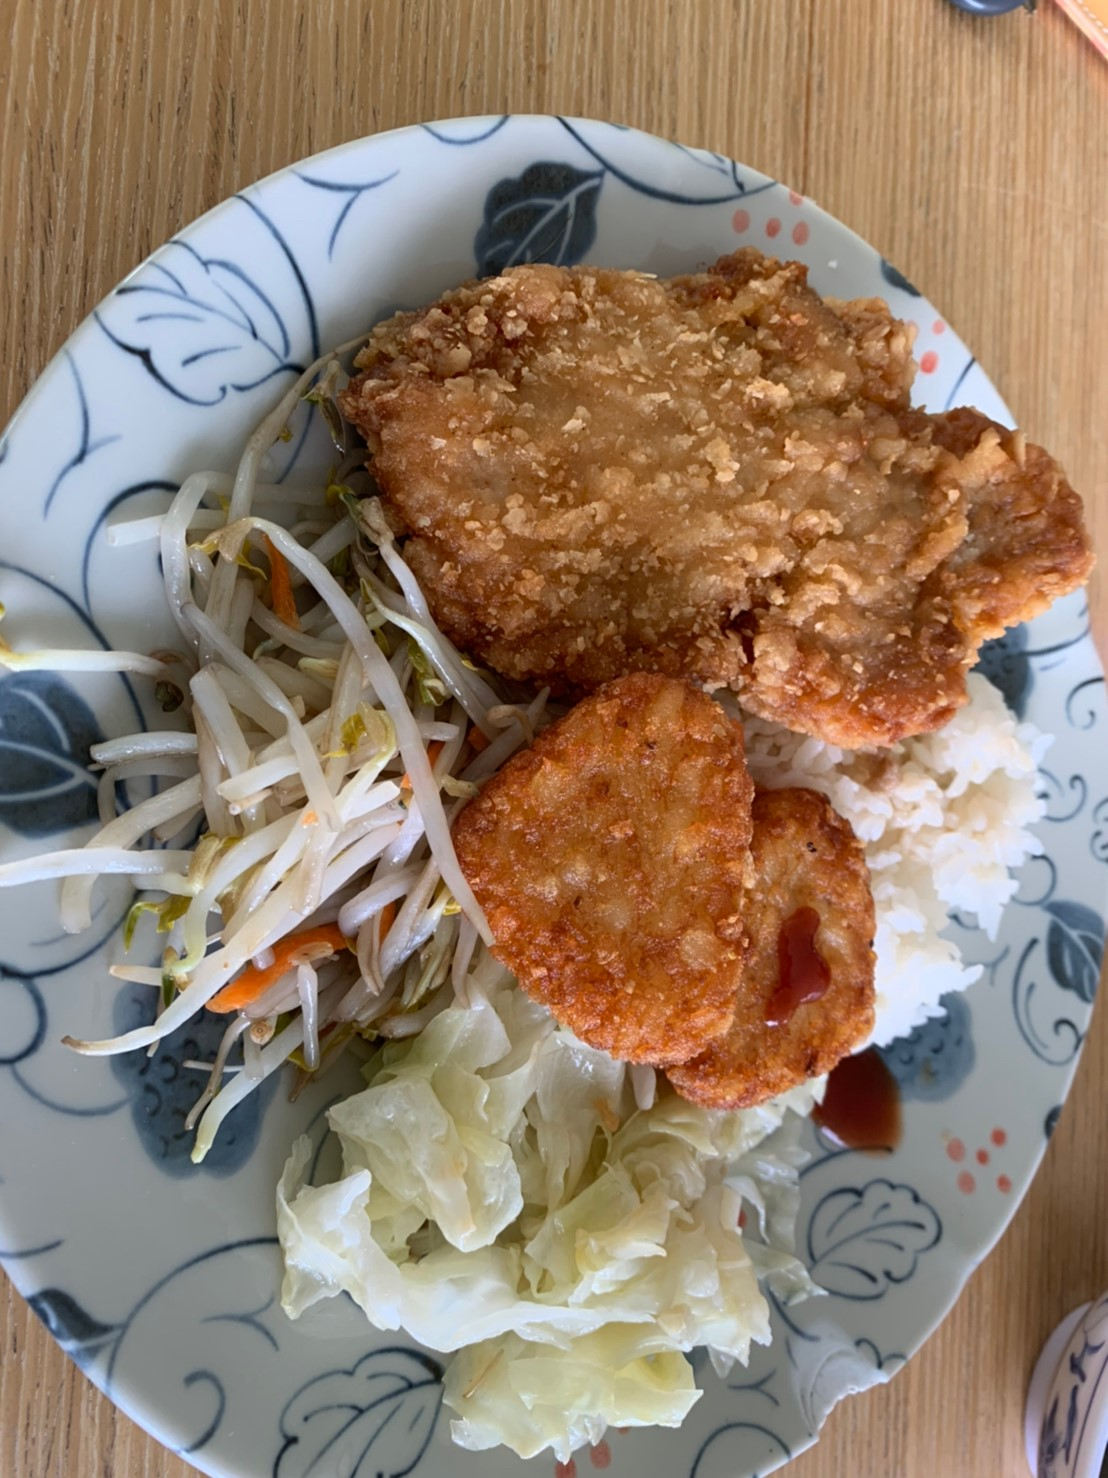chinese_cabbage: (356, 1060, 727, 1387)
fried_chicken: (393, 270, 1077, 738)
mung_bean_sprouts: (102, 509, 404, 1090)
rice: (879, 705, 1035, 1029)
triangle_hash_brown: (466, 683, 871, 1095)
